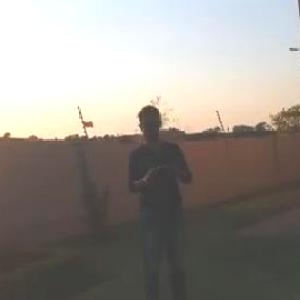follow: (125, 98, 202, 299)
